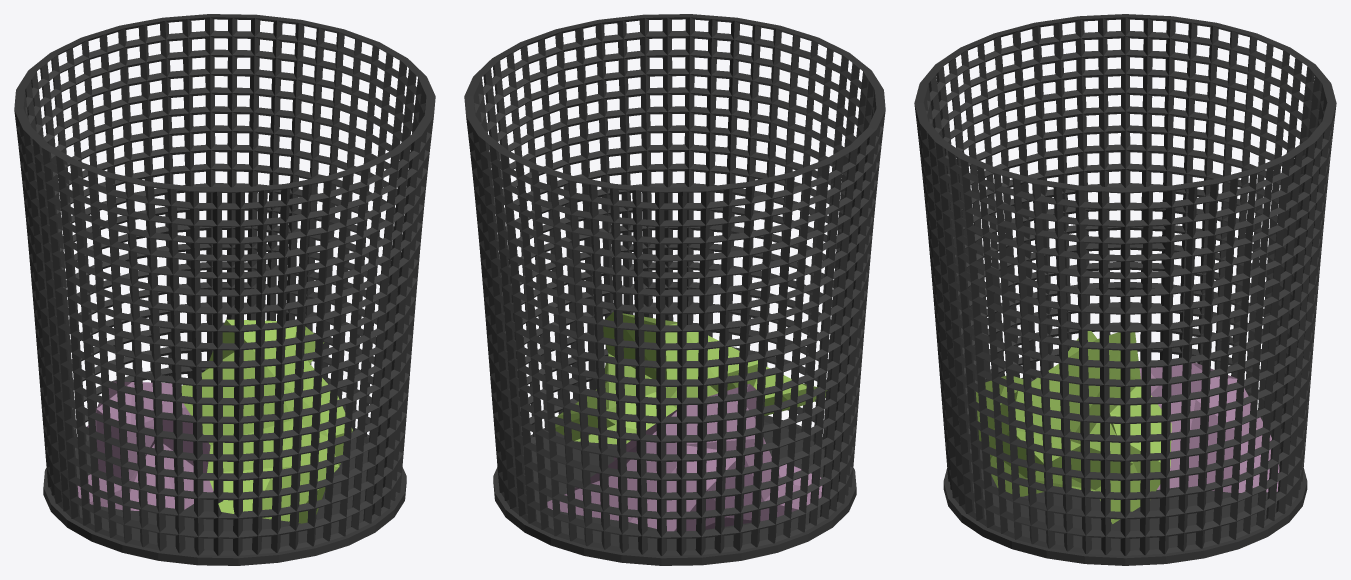
The model's file is indoor_trashcan.glb.
The picture shows the model from 3 angles, left to right: view 1: azimuth 30°, elevation 25°; view 2: azimuth 150°, elevation 25°; view 3: azimuth 270°, elevation 25°; orthographic projection.
Parts seen in each view (by area): view 1: Cylinder.001, Plane.001, Cylinder, Plane; view 2: Cylinder.001, Cylinder, Plane, Plane.001; view 3: Cylinder.001, Cylinder, Plane.001, Plane.
Boxes of the visible parts, x1,y1,x2,y2 form: Cylinder.001: (14, 14, 435, 555); Plane.001: (181, 319, 352, 523); Cylinder: (43, 428, 406, 565); Plane: (77, 381, 213, 510); Cylinder.001: (464, 14, 885, 555); Cylinder: (493, 415, 856, 565); Plane: (547, 384, 822, 531); Plane.001: (555, 312, 827, 444); Cylinder.001: (914, 14, 1336, 555); Cylinder: (943, 449, 1307, 565); Plane.001: (975, 331, 1171, 523); Plane: (1139, 363, 1279, 492).
Bounding box in the file's own units: 0.1094 × 0.1123 × 0.1094.
